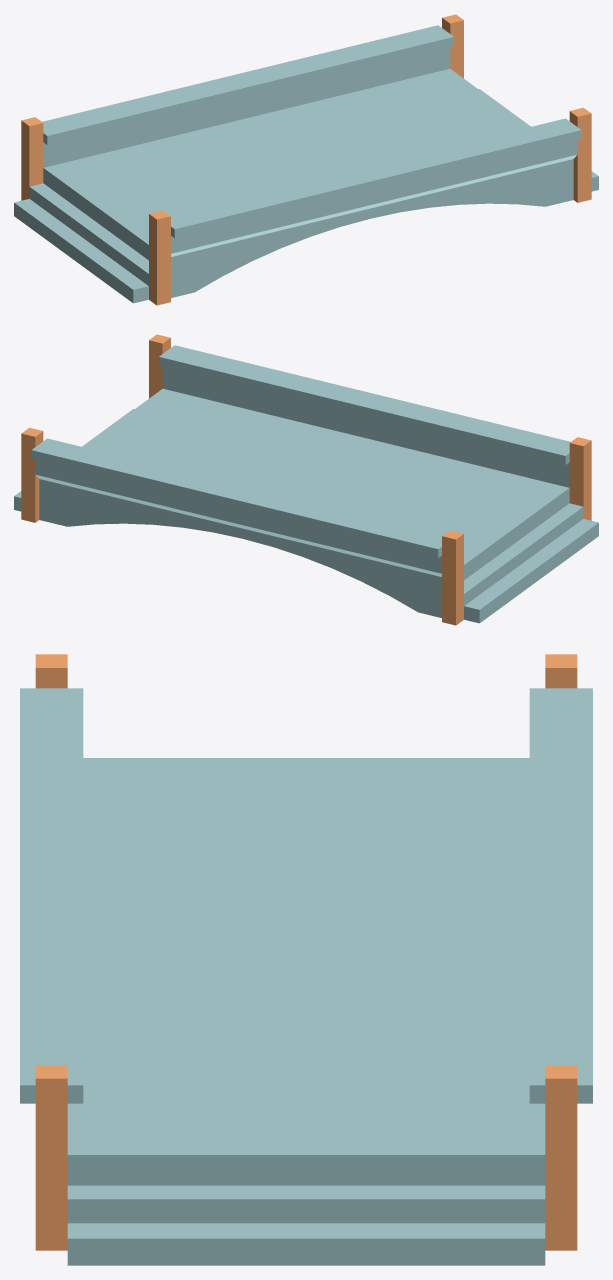
Rendered from bridge_straight.obj.
The picture shows the model from 3 angles, top to bottom: view 1: azimuth 30°, elevation 25°; view 2: azimuth 150°, elevation 25°; view 3: azimuth 270°, elevation 25°; orthographic projection. The views are drawn at different scales.
Parts seen in each view (by area): view 1: bridge_straight; view 2: bridge_straight; view 3: bridge_straight.
Part boxes in pixels (x1,y1,x2,y2): bridge_straight: (14, 14, 598, 305); bridge_straight: (14, 334, 598, 625); bridge_straight: (20, 654, 592, 1265).
Size of the model in its own units: 9.5 by 1.68 by 5.06.
